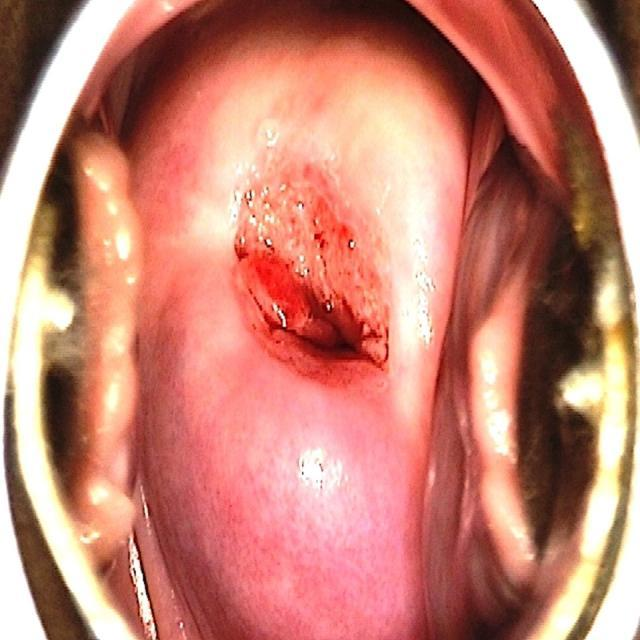cervical_lesion: (227, 121, 435, 405)
